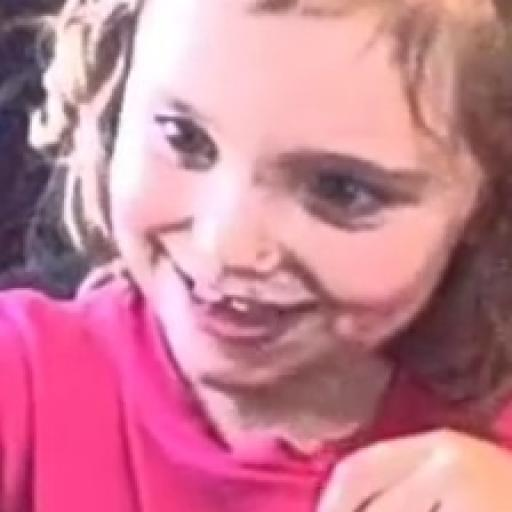Autism: (77, 0, 512, 469)
